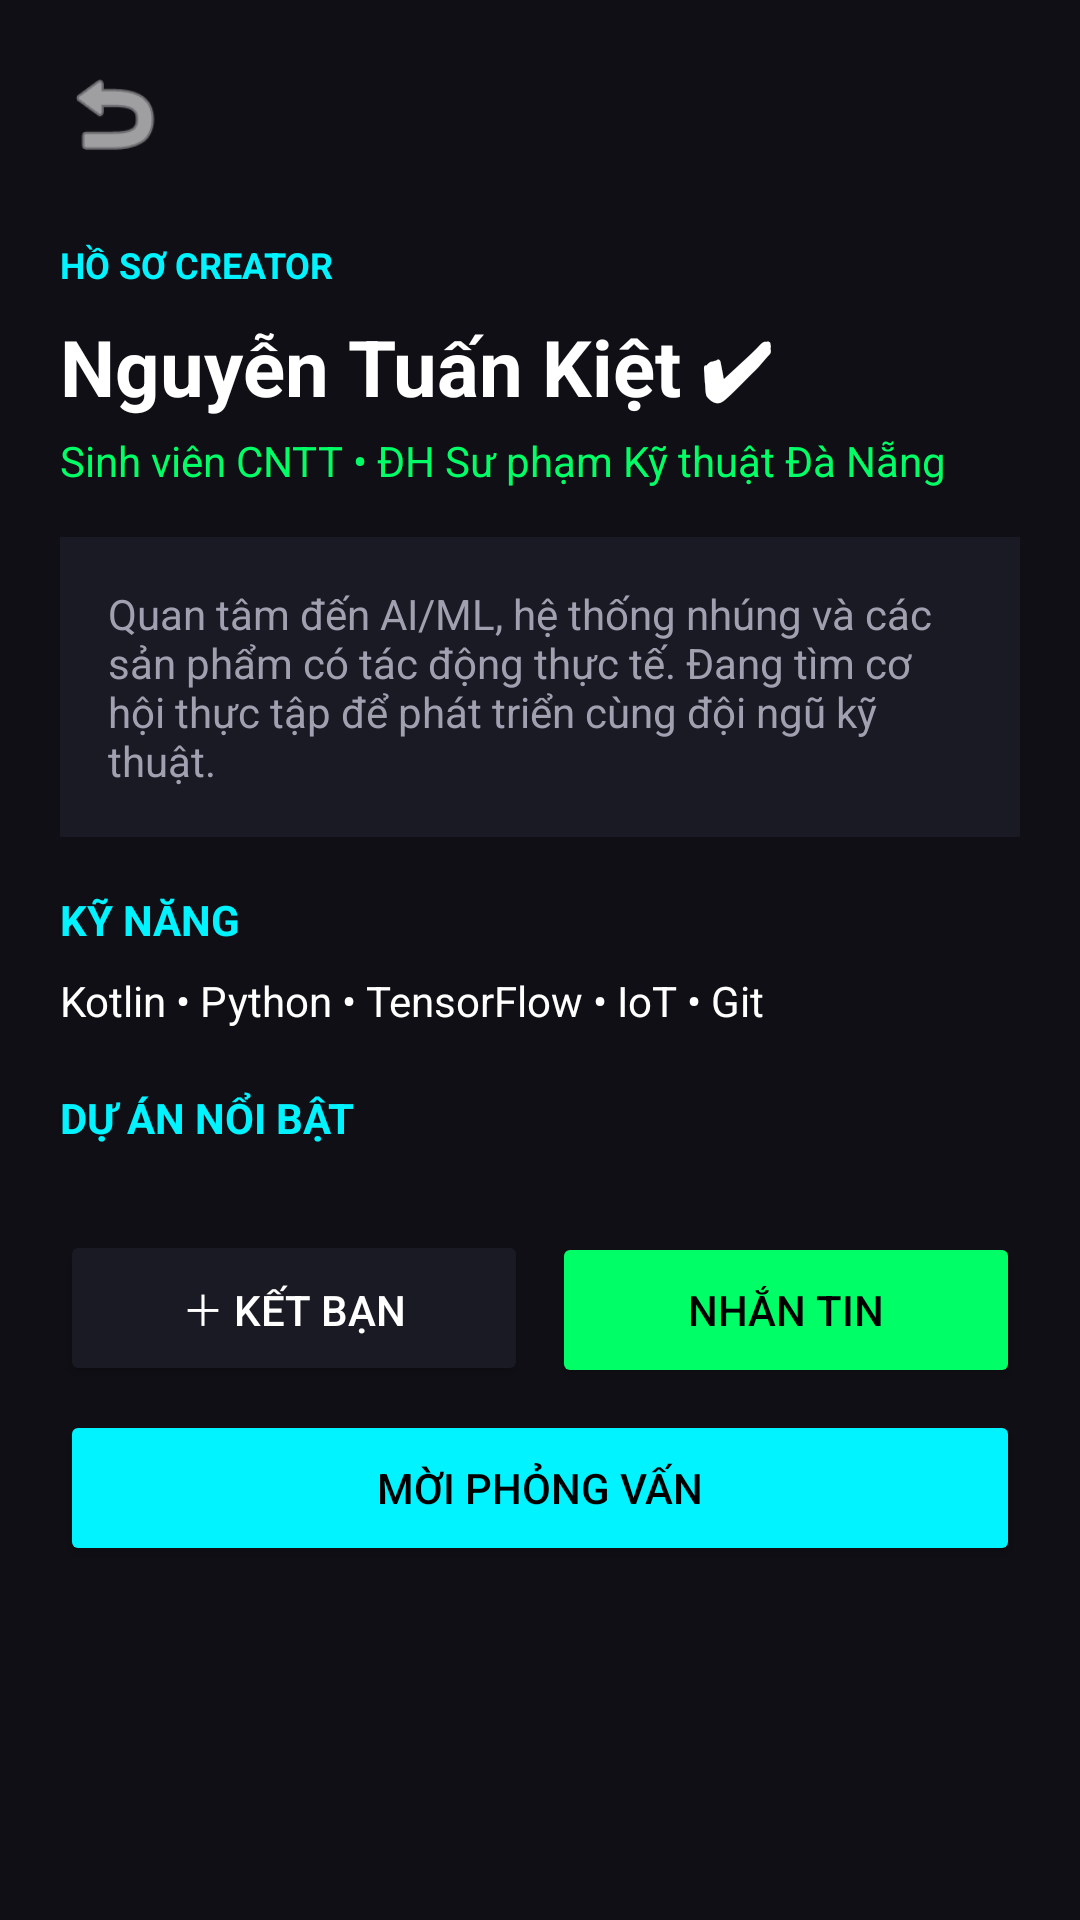

Icons on this 1080x1920 Android screen, each with the point to tap as (x,y):
Quay lại: (115,115)
